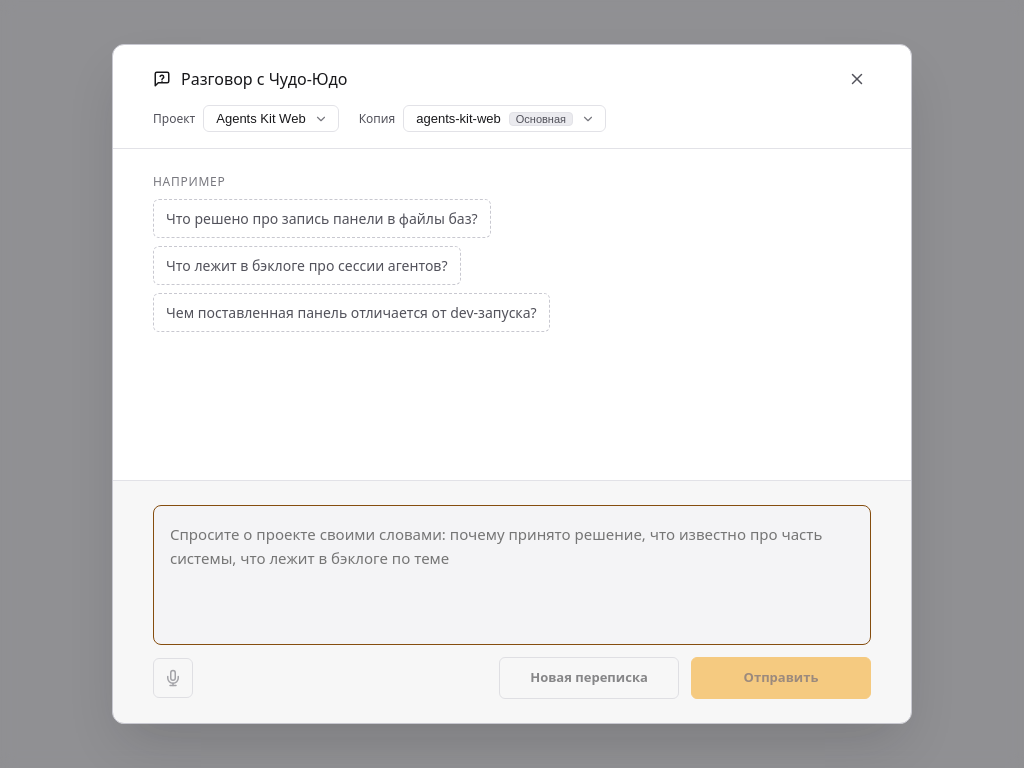
Test: сменили проект — в списке его копии, и снова выбрана основная
Click the button "agents-kit-web Основная".
click(505, 118)  # box x1=403 y1=105 x2=606 y2=132
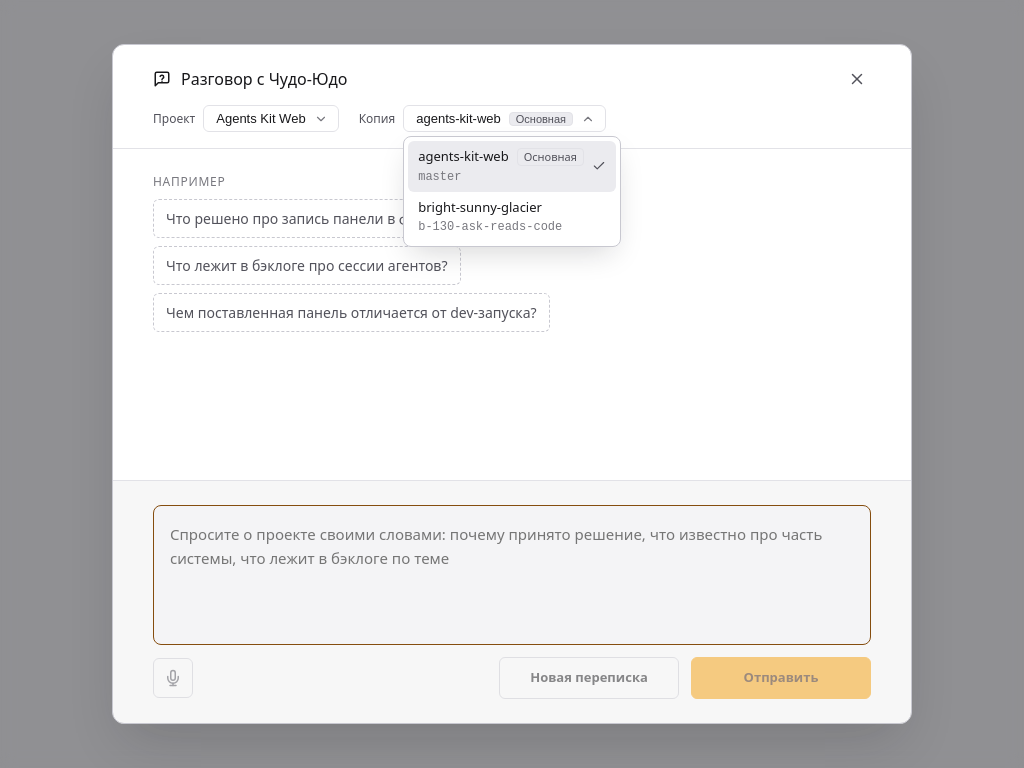
Click the option "bright-sunny-glacier b-130-ask-reads-code".
click(490, 216)  # box x1=418 y1=198 x2=562 y2=234
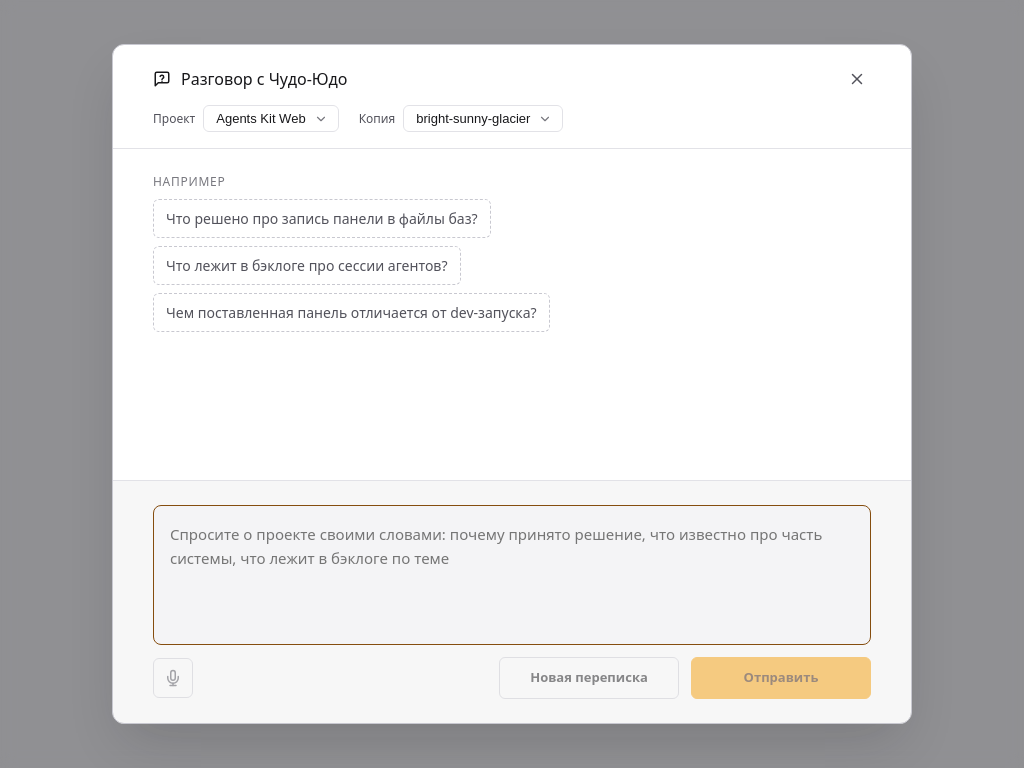
Check: the button with aria-label "Копия: bright-sunny-glacier" is shown, box x1=403 y1=105 x2=563 y2=132
Click the button "Agents Kit Web".
click(271, 118)  # box x1=203 y1=105 x2=339 y2=132
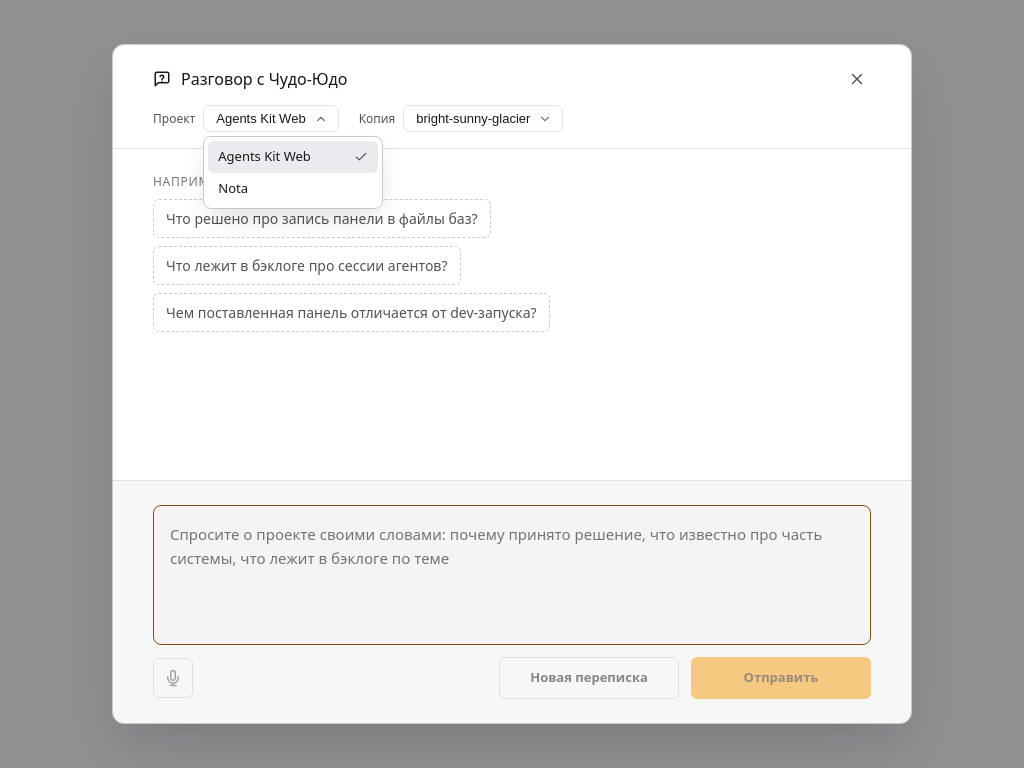
Click the option "Nota".
click(233, 188)  # box x1=218 y1=178 x2=248 y2=196
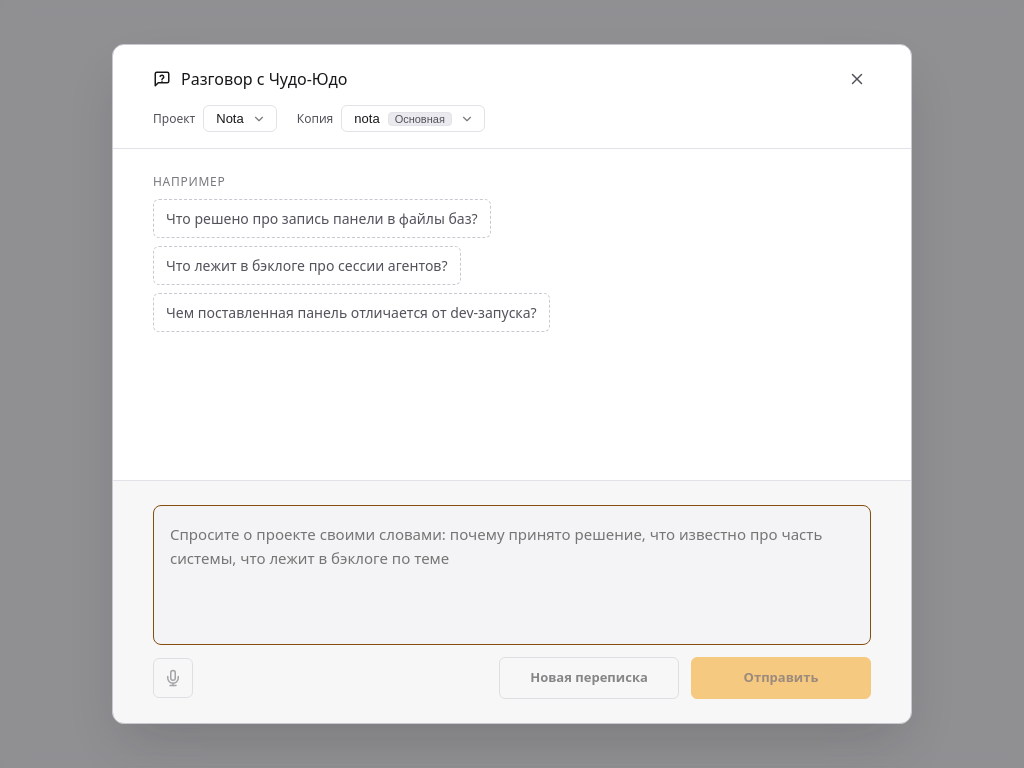
Check: the button with aria-label "Копия: nota" is shown, box x1=341 y1=105 x2=485 y2=132
Click the button "Nota".
click(240, 118)  # box x1=203 y1=105 x2=277 y2=132
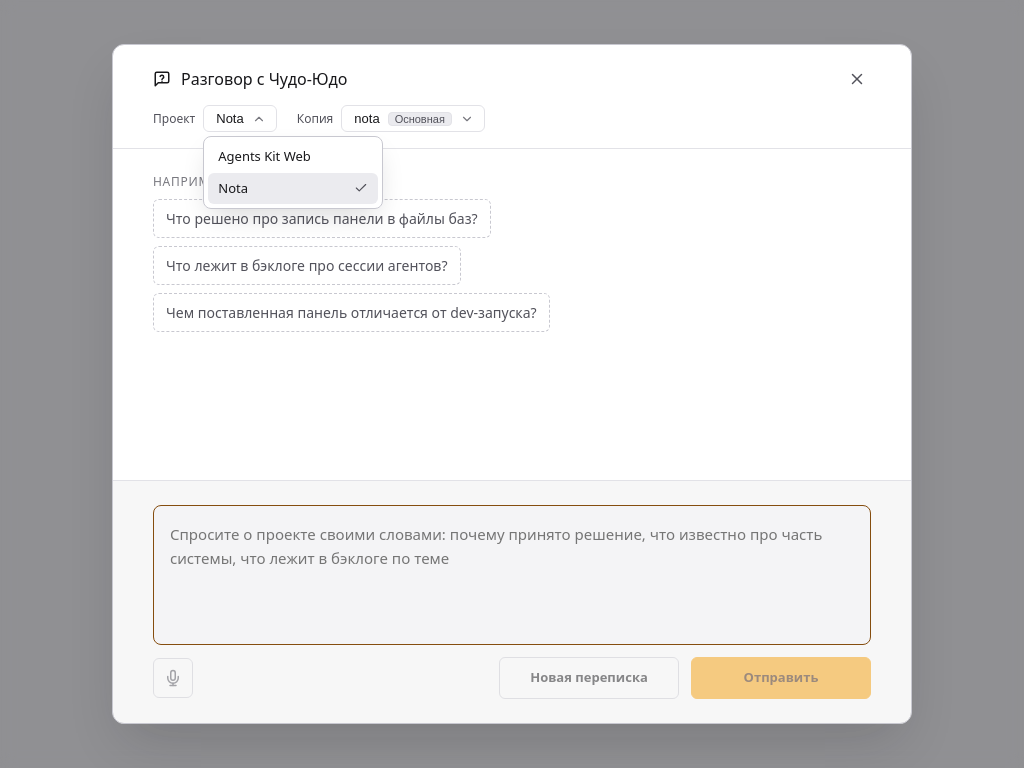
Click the option "Agents Kit Web".
click(265, 156)  # box x1=218 y1=147 x2=311 y2=165
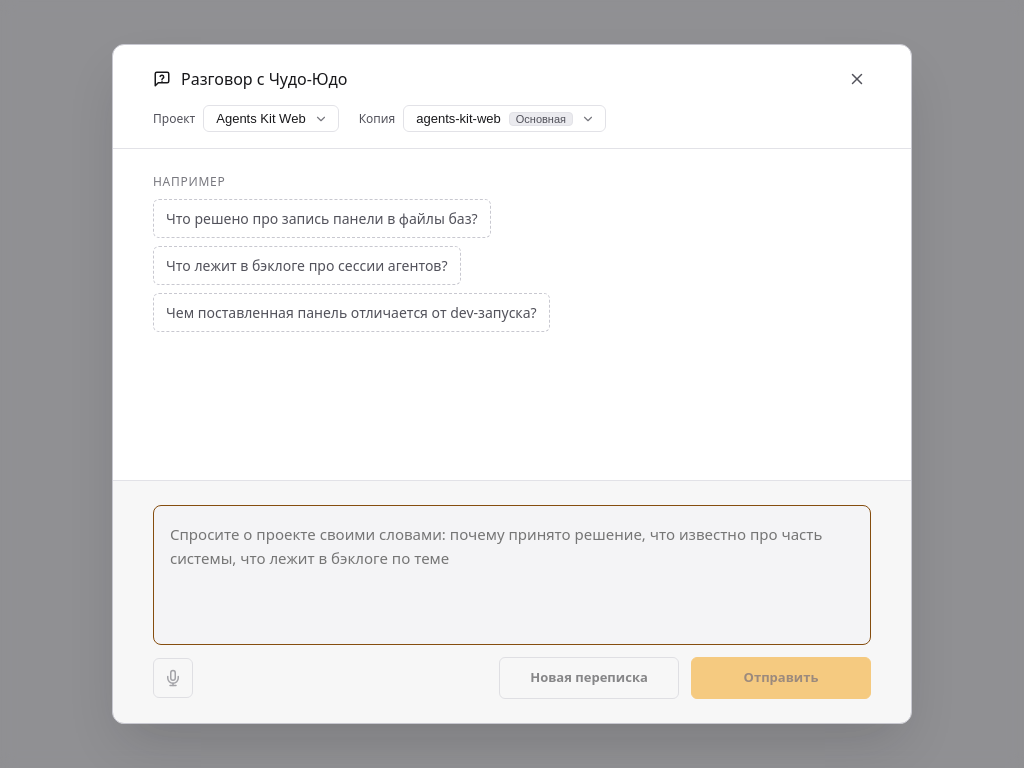
Check: the button with aria-label "Копия: agents-kit-web" is shown, box x1=403 y1=105 x2=606 y2=132
